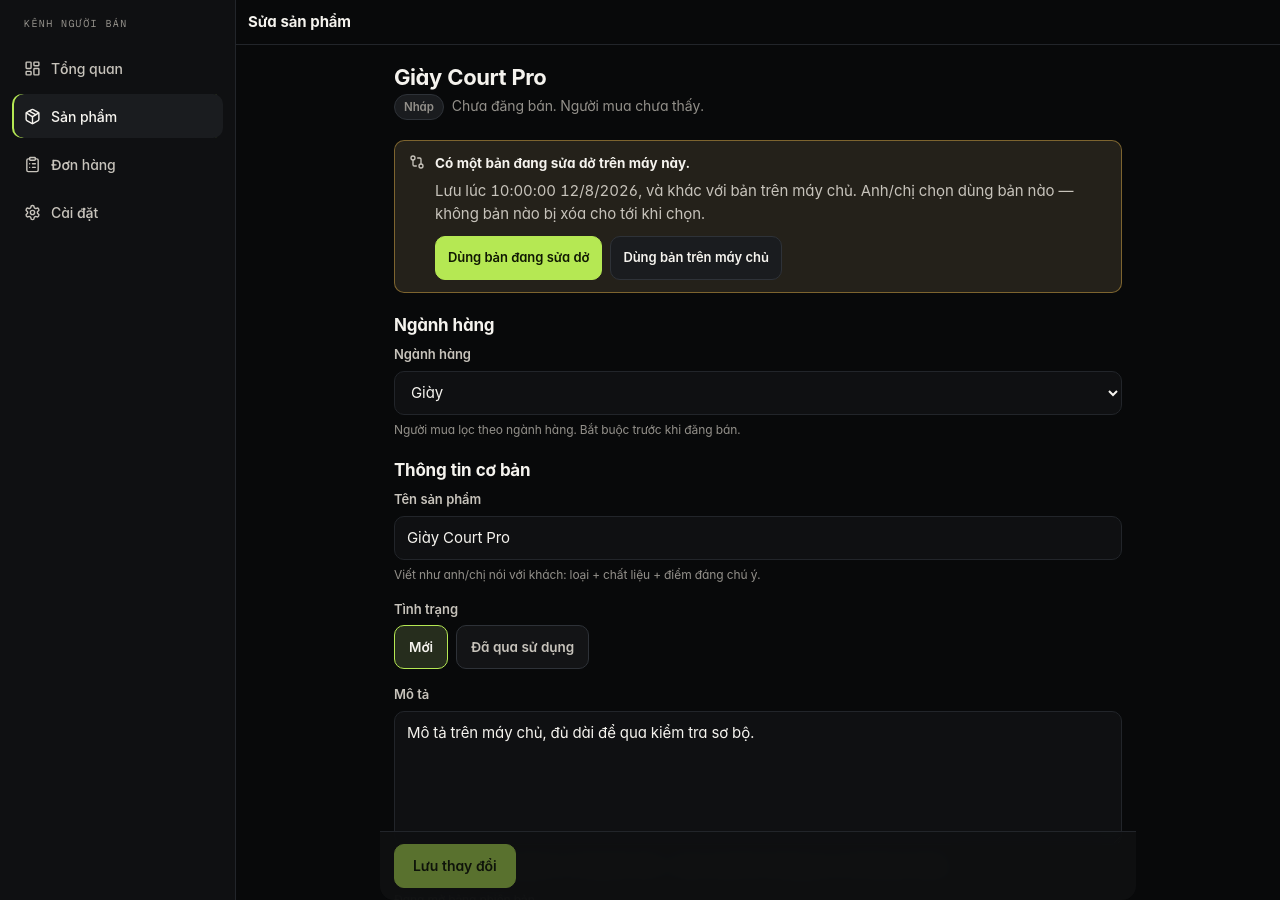
Test case: a local draft that differs from the server › restores the local copy when the seller picks it
Check: the text "Có một bản đang sửa dở trên máy này." is shown, box [435,155,690,171]
Click the button "Dùng bản đang sửa dở" at (519, 258), box [435,236,602,280]
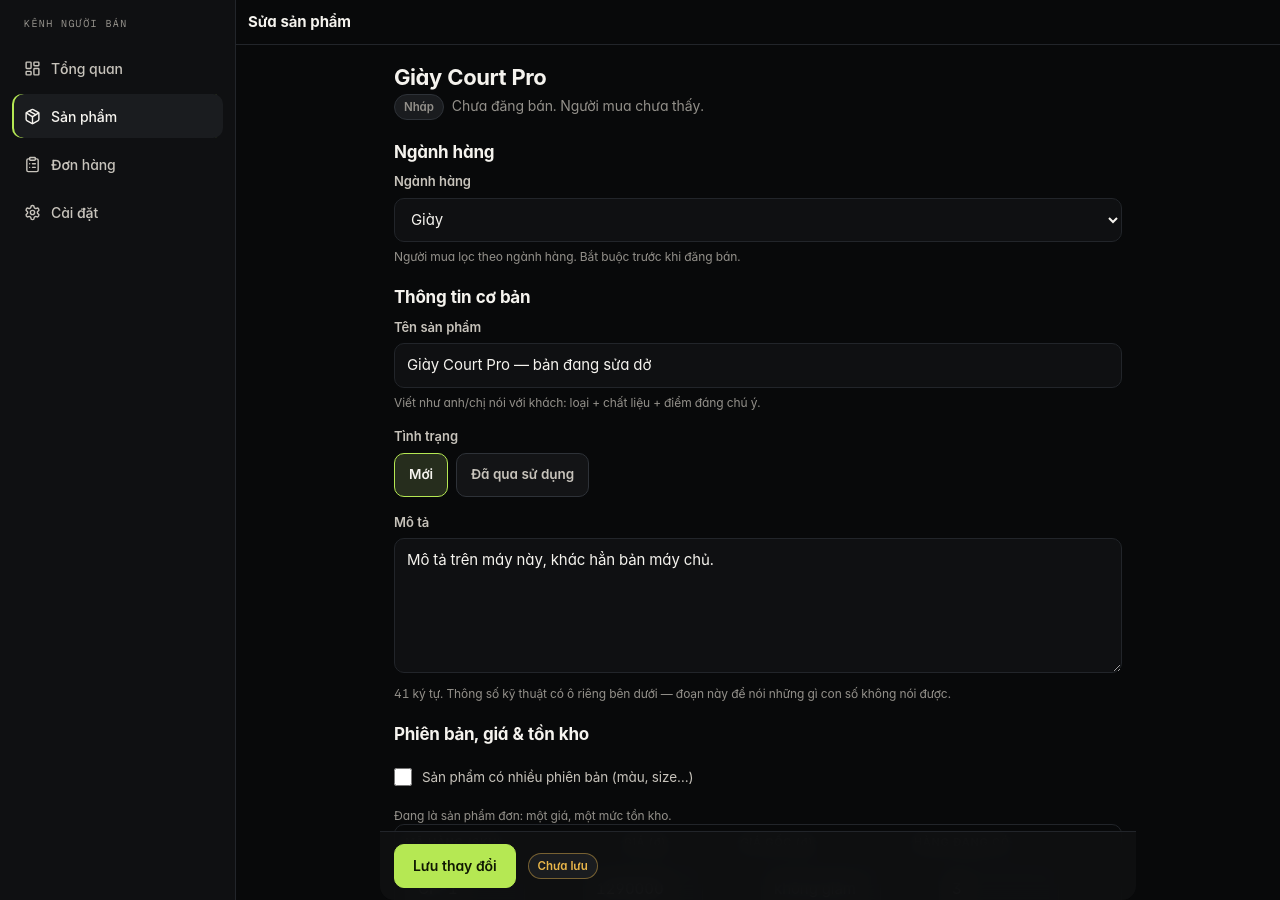
Check: the field labelled "Tên sản phẩm" holds "Giày Court Pro — bản đang sửa dở", box [394,343,1122,388]
Check: the text "Có một bản đang sửa dở trên máy này." is gone
